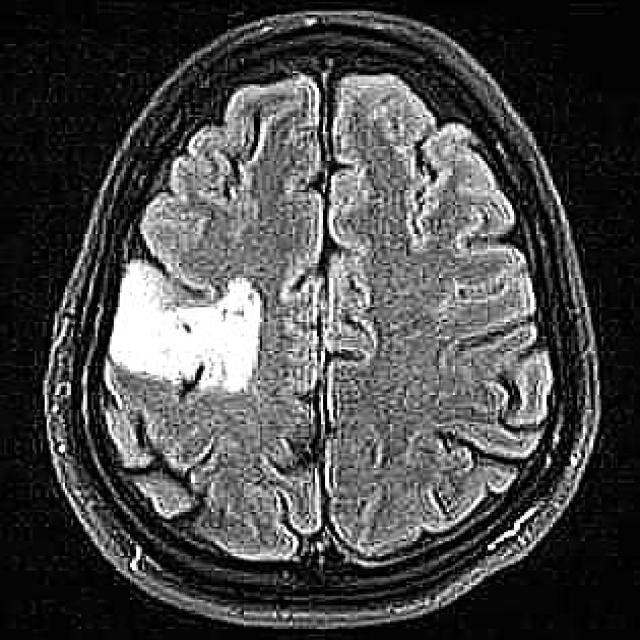Tumor-Cell: (111, 267, 288, 390)
